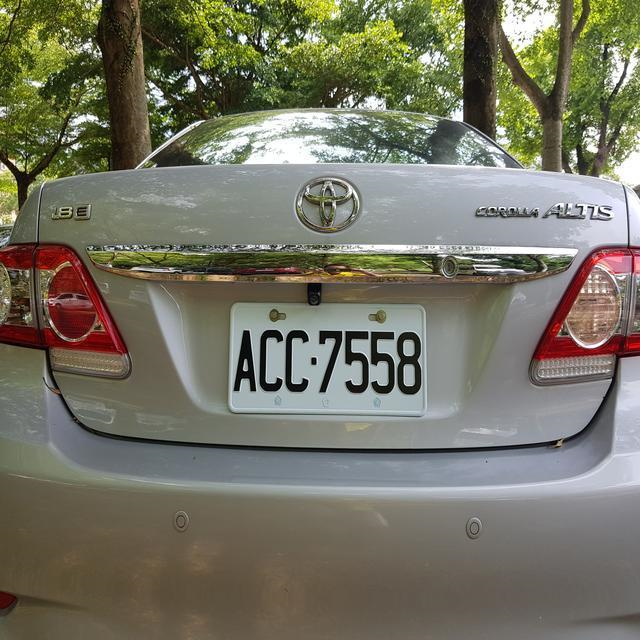license: (228, 305, 427, 411)
